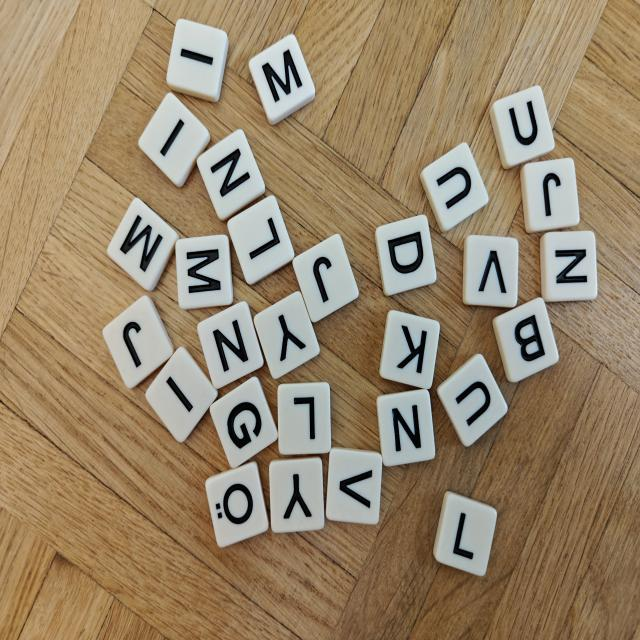b: (493, 297, 558, 382)
d: (375, 215, 436, 295)
g: (210, 376, 278, 468)
i: (145, 347, 218, 442), (139, 93, 210, 187), (167, 19, 229, 101)
j: (103, 296, 174, 388), (292, 234, 359, 322), (520, 158, 579, 232)
k: (380, 310, 440, 389)
l: (228, 196, 294, 285), (434, 491, 497, 576), (278, 382, 331, 455)
m: (107, 198, 178, 291), (249, 34, 315, 125), (175, 235, 233, 309)
n: (197, 130, 265, 220), (198, 302, 263, 388), (377, 389, 435, 466), (540, 231, 597, 302)
o_dot: (205, 462, 269, 547)
u: (437, 354, 507, 446), (420, 143, 488, 232), (490, 86, 554, 169)
v: (326, 447, 382, 524), (462, 235, 518, 307)
y: (254, 291, 319, 379), (269, 457, 324, 532)
